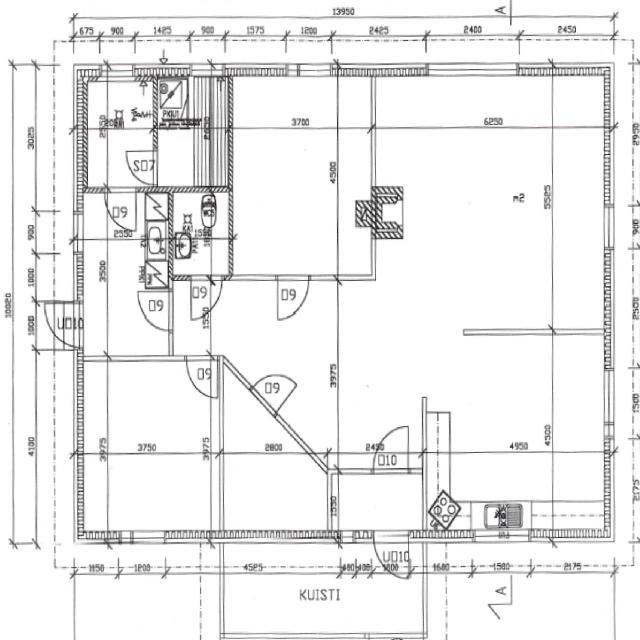door: (250, 361, 296, 416), (36, 303, 82, 346), (374, 530, 409, 584), (374, 426, 408, 474), (104, 188, 136, 232), (136, 291, 172, 330), (190, 275, 222, 318), (186, 356, 217, 399), (278, 275, 308, 318), (125, 150, 156, 184)
